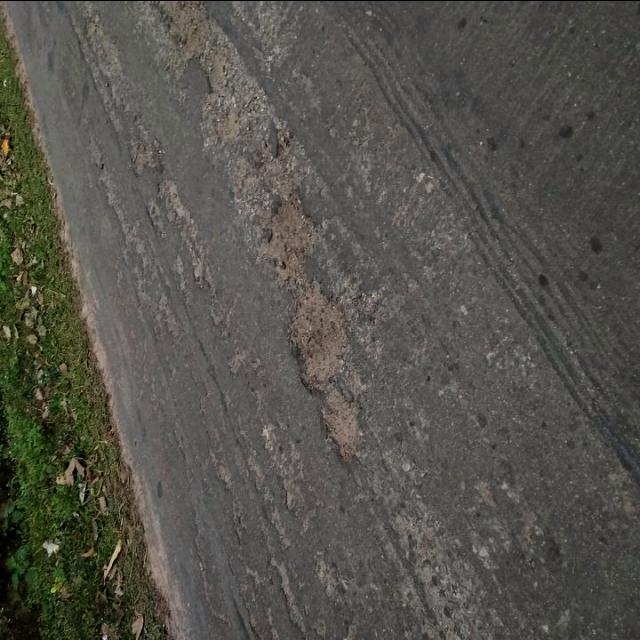pothole: (253, 194, 393, 452)
